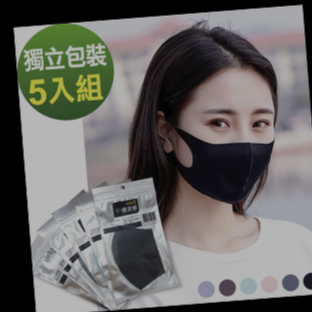with_mask: (170, 99, 277, 204)
